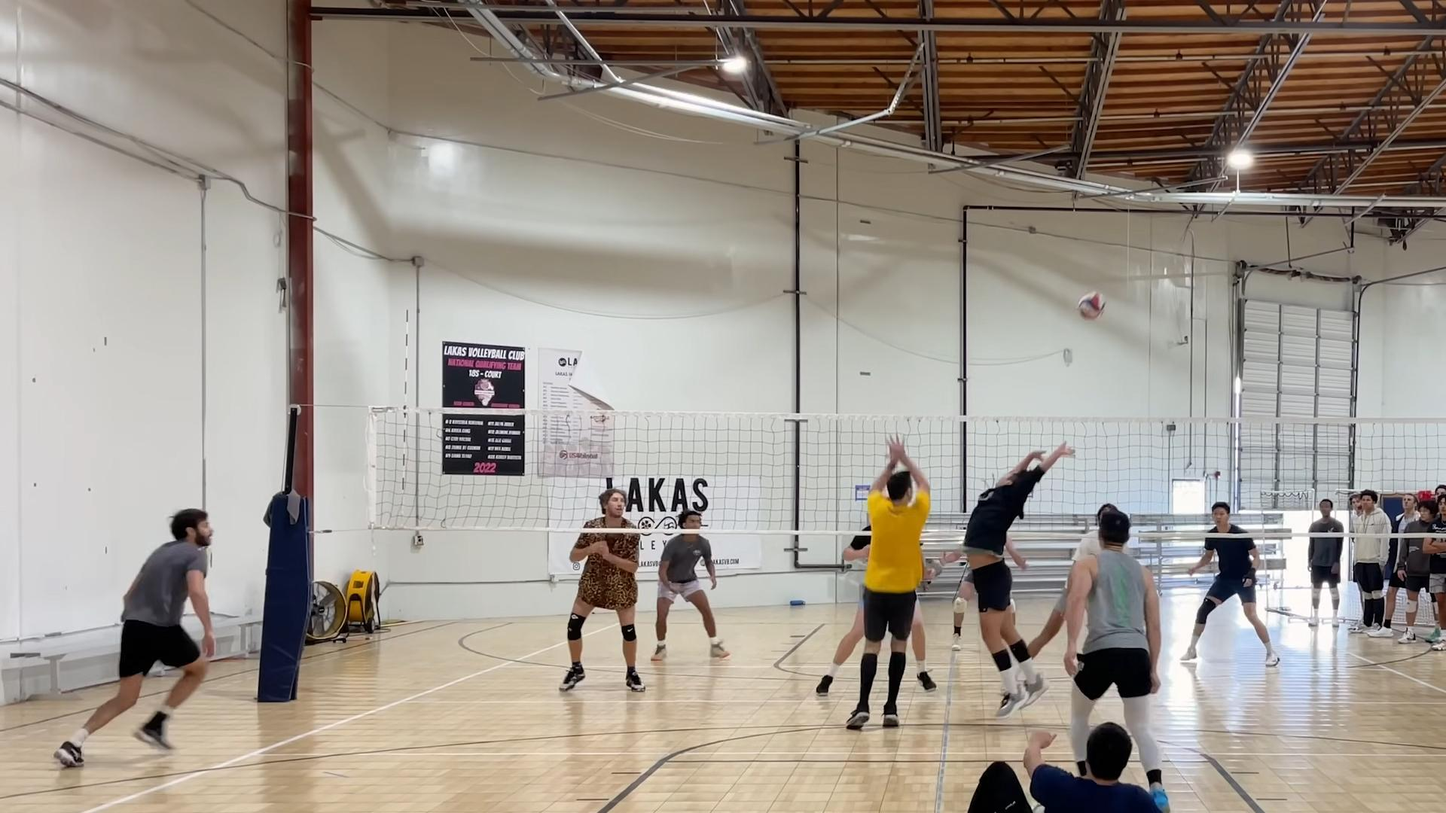Player: (54, 509, 215, 766), (1064, 510, 1169, 811), (847, 438, 930, 729), (1182, 504, 1279, 665), (559, 531, 645, 691), (1023, 722, 1158, 812), (651, 510, 729, 661), (816, 595, 864, 696), (1028, 579, 1068, 657), (952, 567, 975, 649)
Set: (949, 434, 1083, 717)
ball: (1080, 288, 1106, 321)
